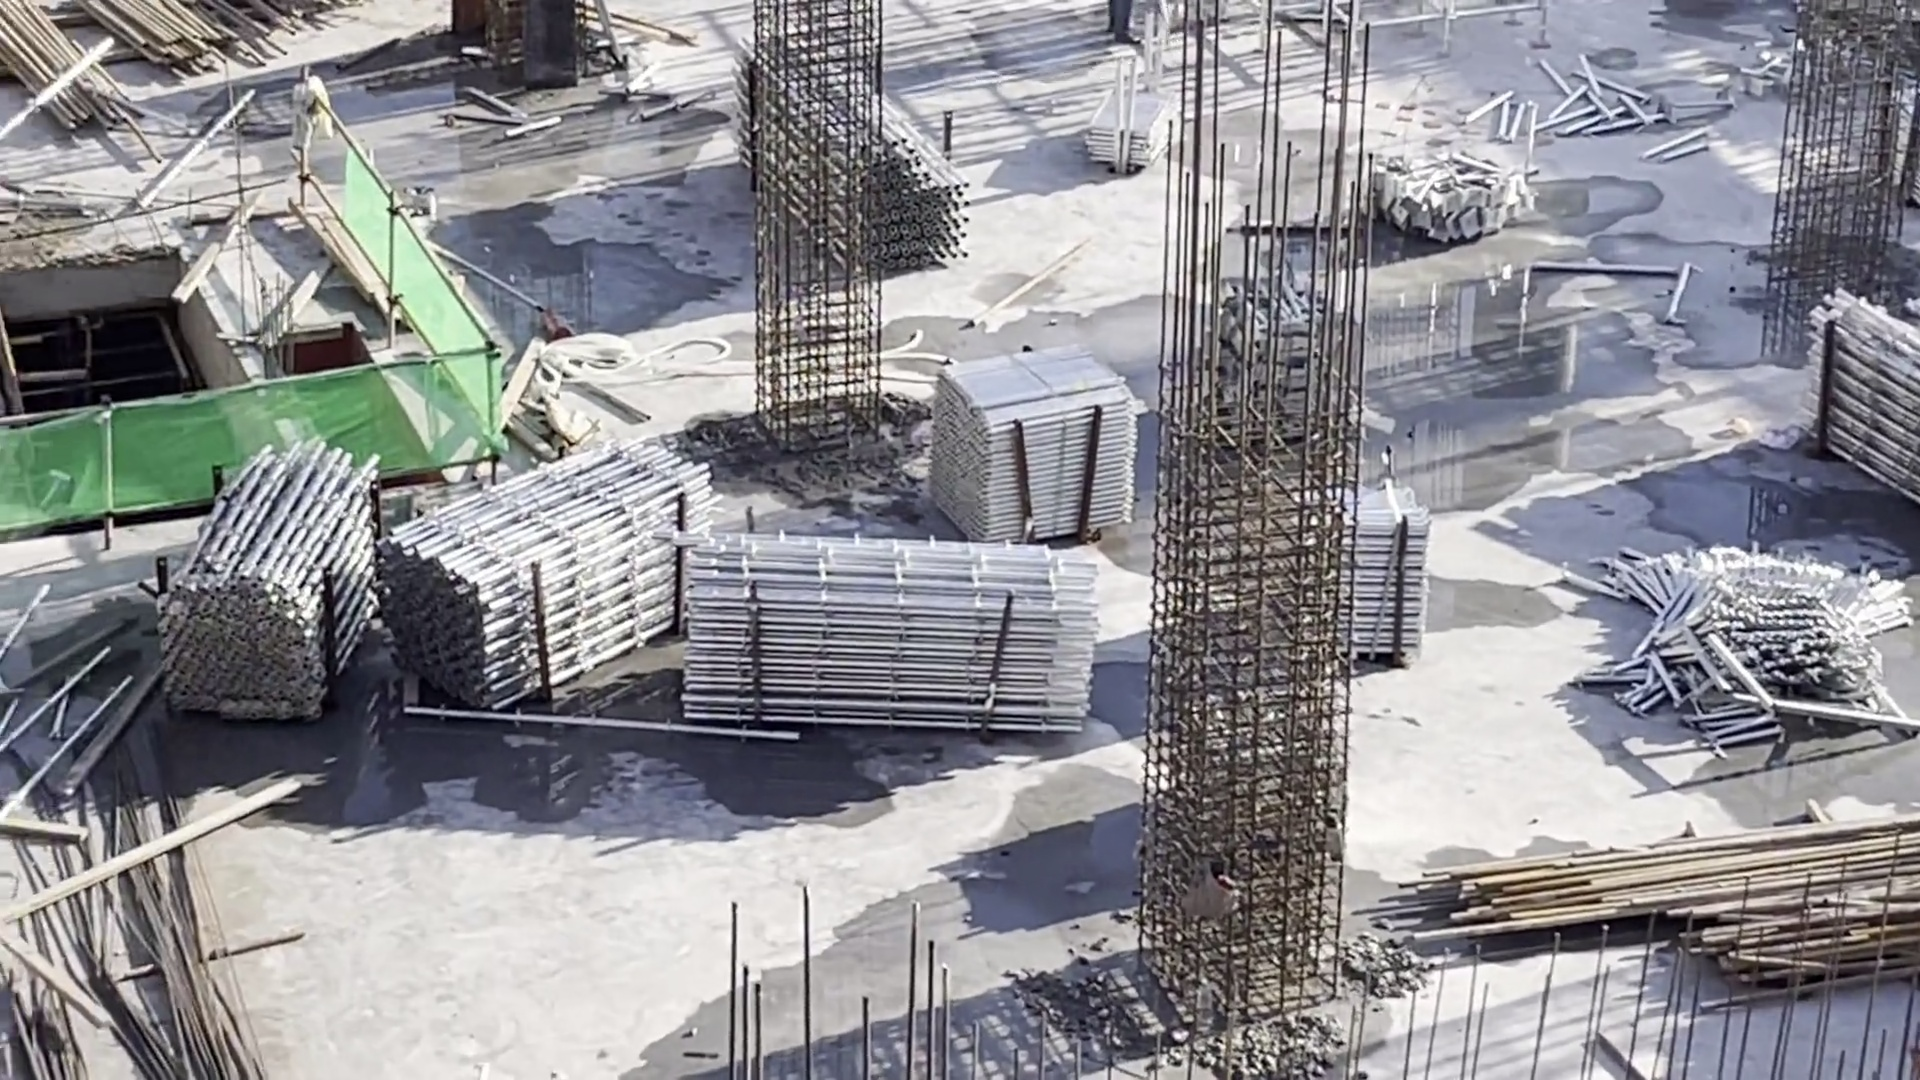person: (1104, 1, 1135, 41)
rebar: (101, 851, 250, 1080), (2, 994, 77, 1080)
scaffold: (688, 541, 1082, 732), (424, 468, 667, 692), (736, 43, 957, 267), (1635, 559, 1892, 741), (168, 451, 330, 725), (943, 367, 1123, 531), (1803, 324, 1920, 485), (1328, 488, 1420, 676), (1082, 80, 1173, 163)
